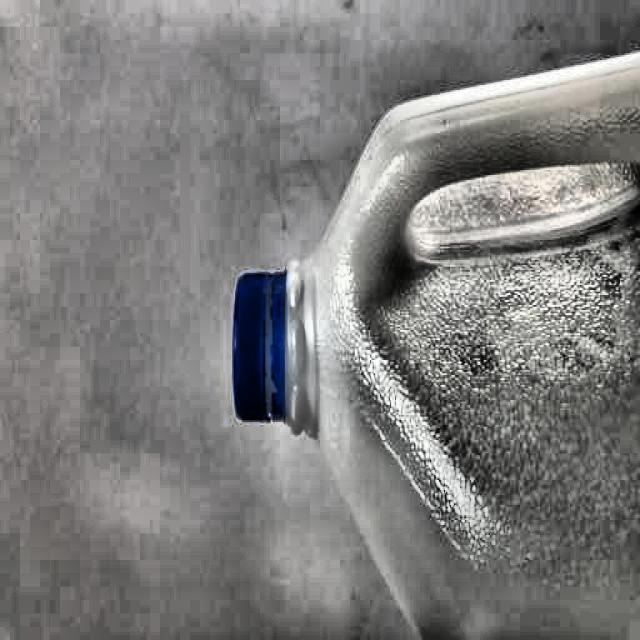plastic: (229, 84, 640, 585)
